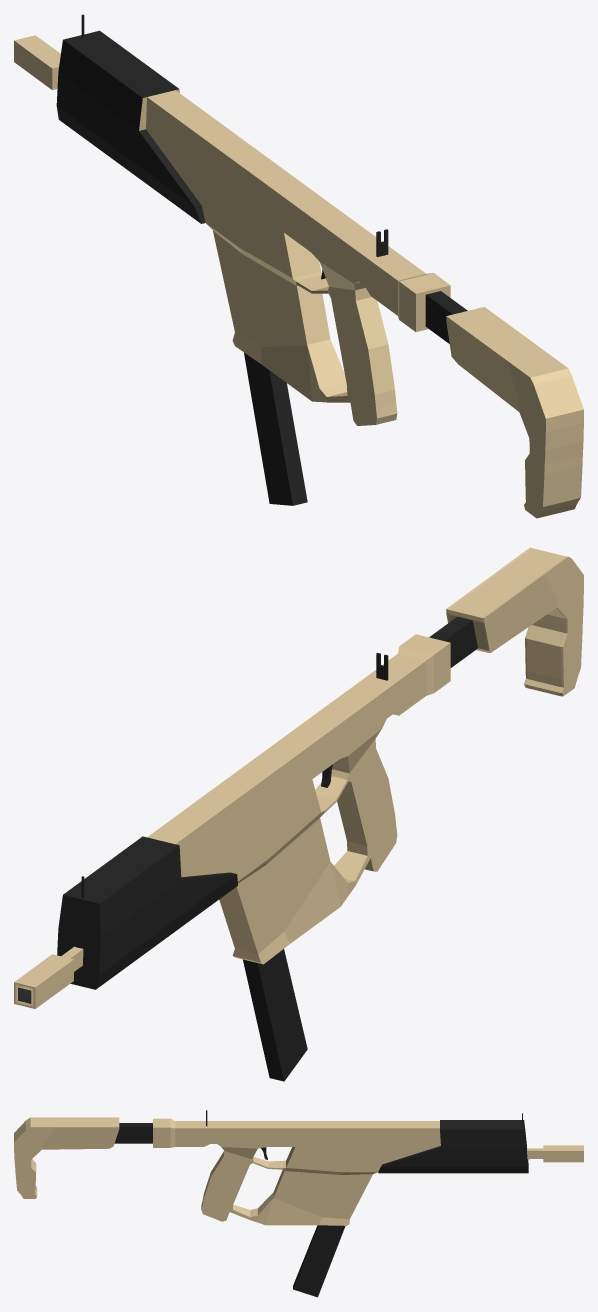
Rendered from smg.fbx.
3 renders of one model, top to bottom at view 1: azimuth 30°, elevation 25°; view 2: azimuth 150°, elevation 25°; view 3: azimuth 270°, elevation 25°, orthographic. The views are drawn at different scales.
Parts seen in each view (by area): view 1: Cube.001; view 2: Cube.001; view 3: Cube.001.
Part boxes in pixels (x1=…): Cube.001: x1=14, y1=14, x2=583, y2=518; Cube.001: x1=14, y1=547, x2=583, y2=1081; Cube.001: x1=14, y1=1110, x2=583, y2=1297.
Size of the model in its own units: 25.18 by 197 by 555.
